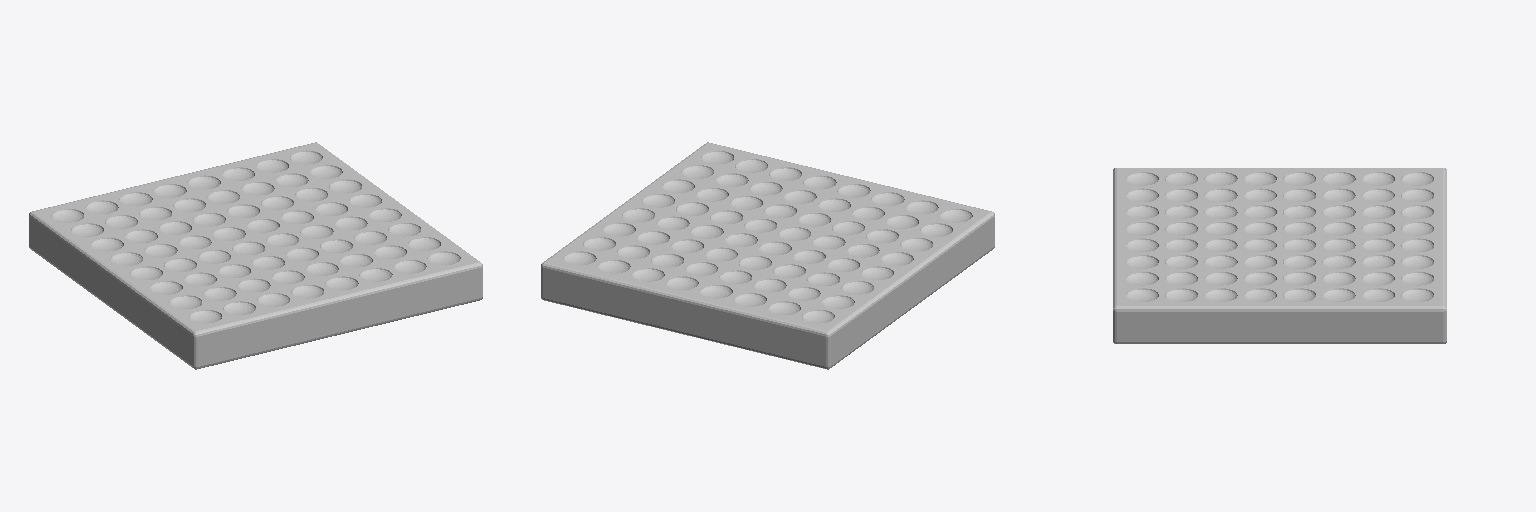
File: surface-old.obj
3 views of the same model, side by side, from view 1: azimuth 30°, elevation 25°; view 2: azimuth 150°, elevation 25°; view 3: azimuth 270°, elevation 25° (orthographic).
Visible parts, largest first — view 1: Cube; view 2: Cube; view 3: Cube.
Boxes of the visible parts, x1,y1,x2,y2 form: Cube: [29, 142, 482, 369]; Cube: [541, 142, 994, 369]; Cube: [1113, 168, 1446, 343].
Size of the model in its own units: 40 by 5 by 40.